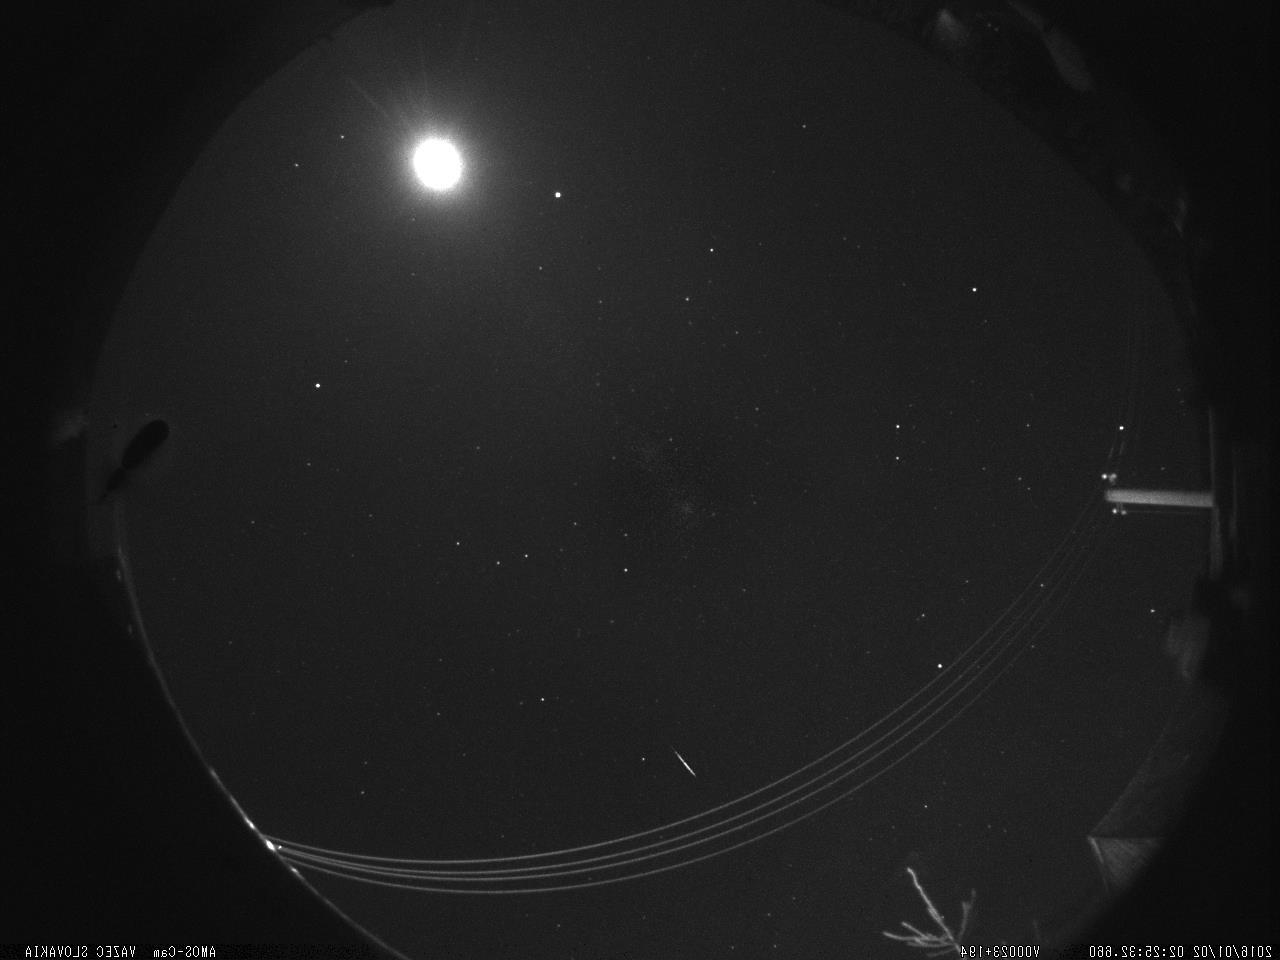meteor: (658, 740, 712, 781)
